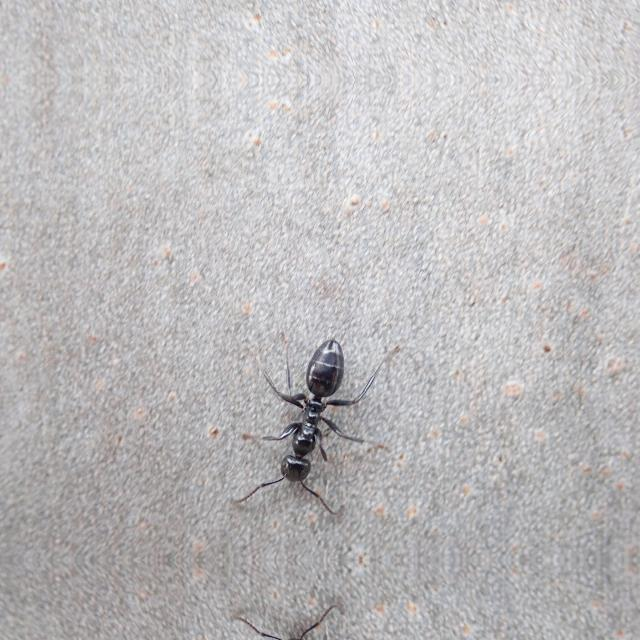Colobopsis: (235, 326, 378, 504)
